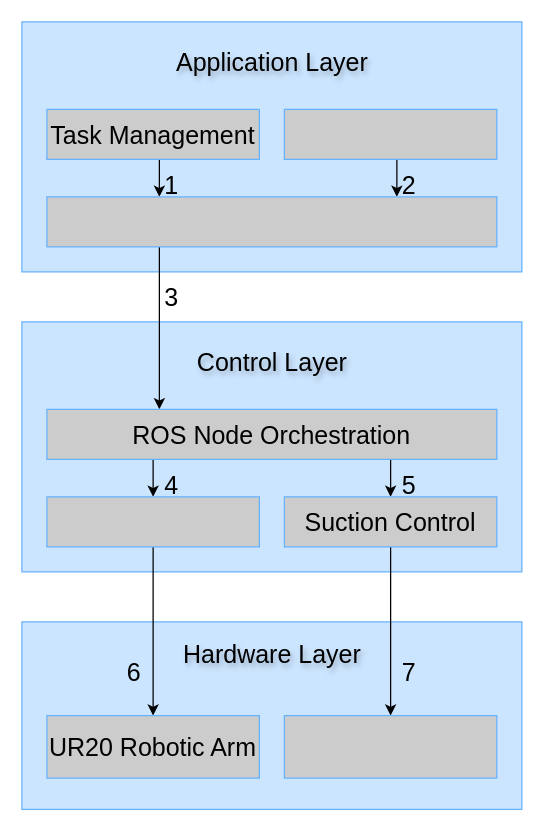
Some shapes in this 544 by 831 pixel diagram are drawn without their labels. The centre of each missing label's shape, as x and y in pixels:
"Error Logging" goes at point (390, 133).
"Motion Planning" goes at point (152, 521).
"User CLI Interface" goes at point (271, 221).
"Vacuum Suction Assembly" goes at point (390, 746).
